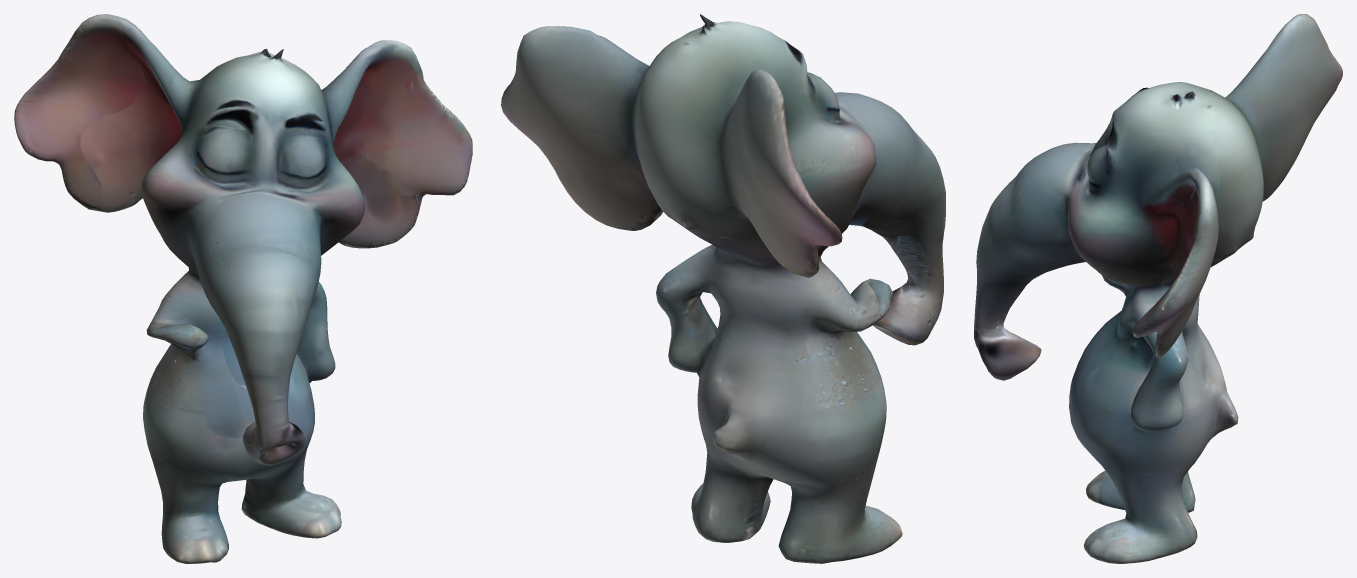
File: idling_elephant_textured_frame_000000.glb
3 renders of one model, left to right at view 1: azimuth 30°, elevation 25°; view 2: azimuth 150°, elevation 25°; view 3: azimuth 270°, elevation 25°, orthographic. The views are drawn at different scales.
Parts seen in each view (by area): view 1: geometry_0; view 2: geometry_0; view 3: geometry_0.
Boxes of the visible parts, left/top/right/bottom form: geometry_0: left=14, top=14, right=472, bottom=563; geometry_0: left=501, top=14, right=945, bottom=563; geometry_0: left=974, top=14, right=1342, bottom=563.
Bounding box in the file's own units: 1.55 × 1.88 × 1.31.
1 material, 1 textured.
